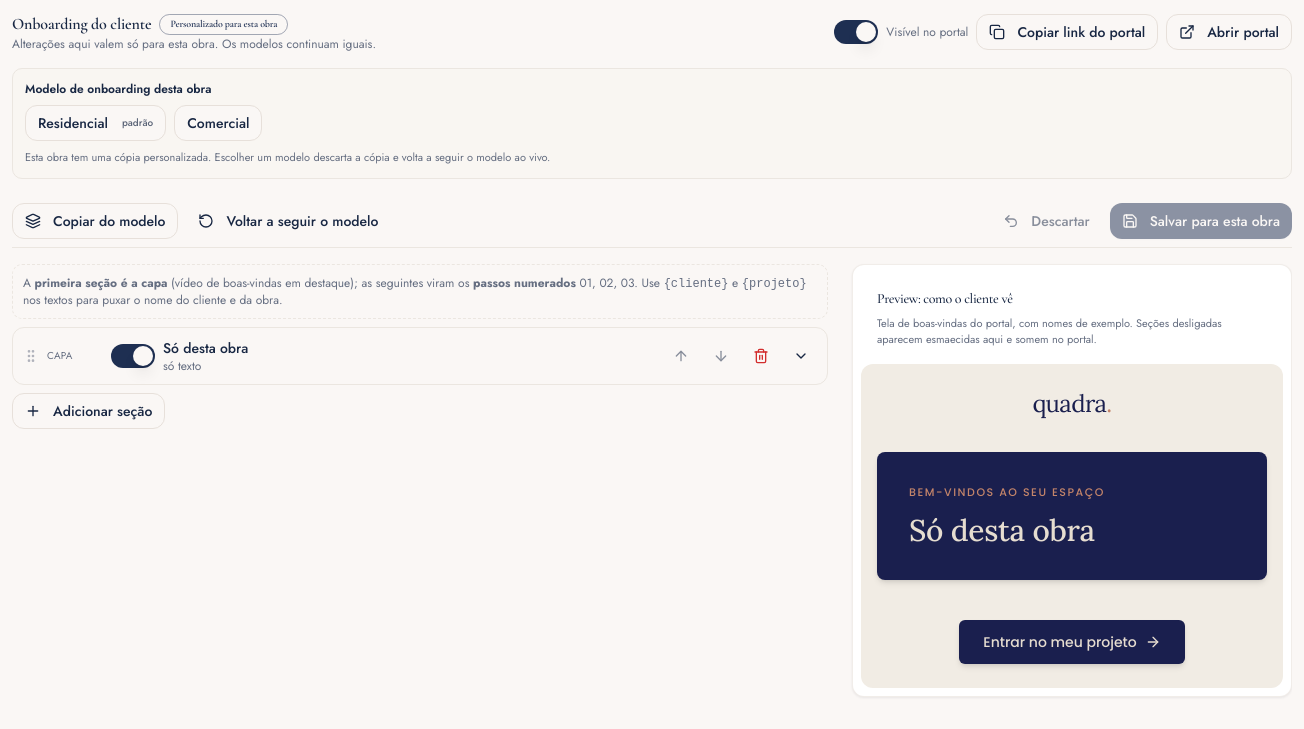
Test case: Projeto → Onboarding (modelo por obra) › 'Copiar do modelo' puxa as seções do modelo para personalizar em cima
Later steps or results of the test are not shown.
Click the button "Copiar do modelo". click: [95, 220]
box: [12,202,178,238]
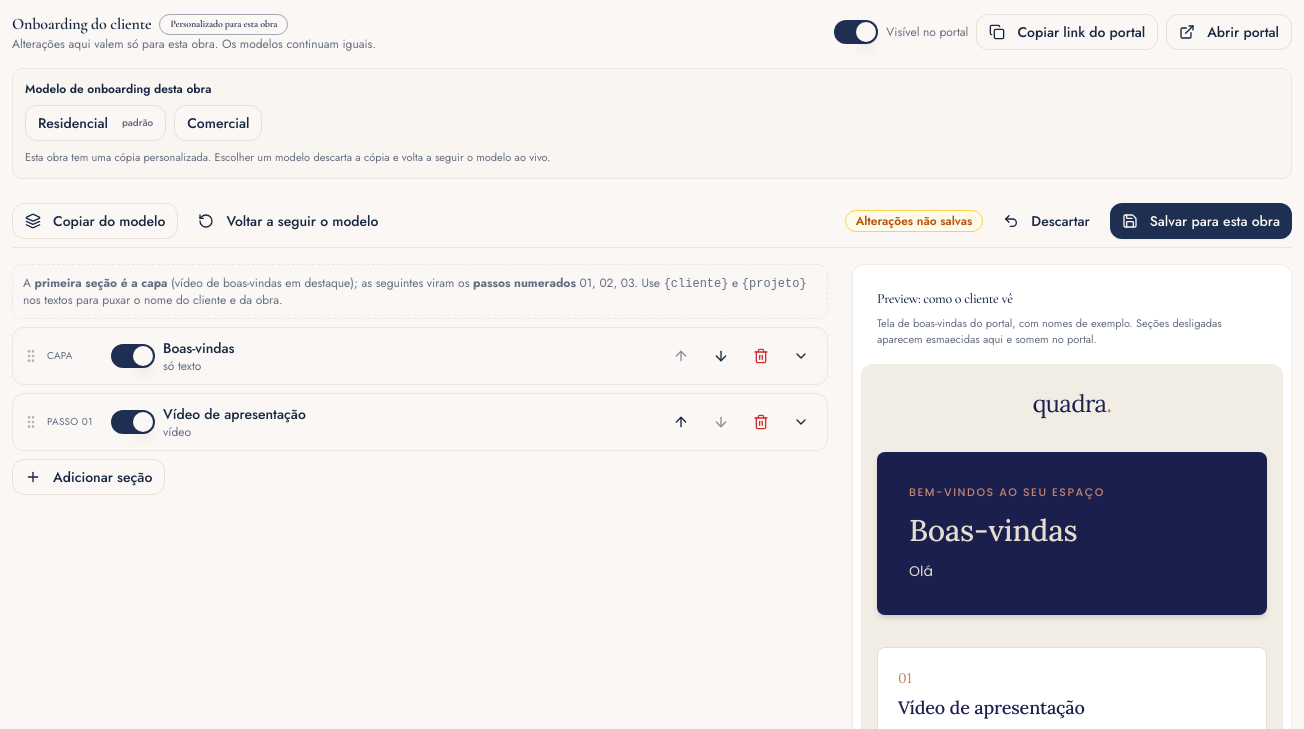
Check: the button "Só desta obra" is gone
Check: the text "Alterações não salvas" is shown, box [845,210,983,232]
